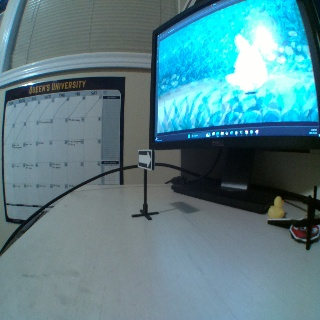sign_oneway_right: (137, 147, 154, 170)
